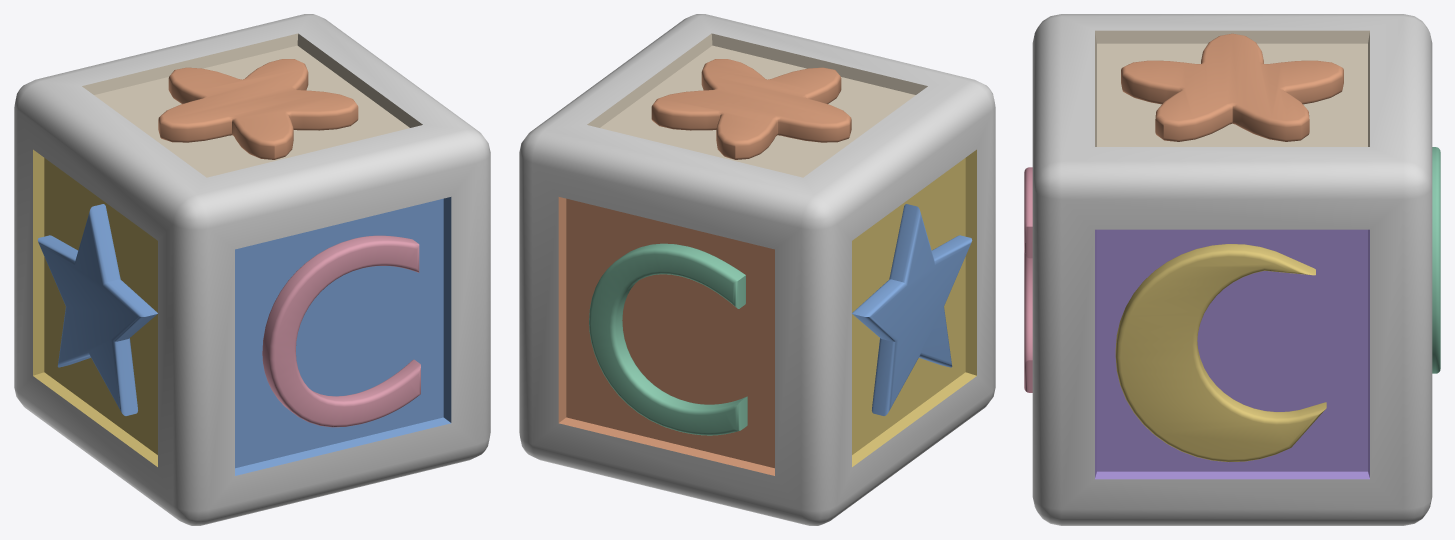
File: W2_Block_C.fbx
3 renders of one model, left to right at view 1: azimuth 30°, elevation 25°; view 2: azimuth 150°, elevation 25°; view 3: azimuth 270°, elevation 25°, orthographic. The views are drawn at different scales.
Visible parts, largest first — view 1: W2_Block_C; view 2: W2_Block_C; view 3: W2_Block_C.
Part boxes in pixels (left/top/right/bottom): W2_Block_C: left=14, top=14, right=490, bottom=525; W2_Block_C: left=519, top=14, right=995, bottom=525; W2_Block_C: left=1024, top=14, right=1440, bottom=525.
Size of the model in its own units: 0.375 by 0.3675 by 0.375.
